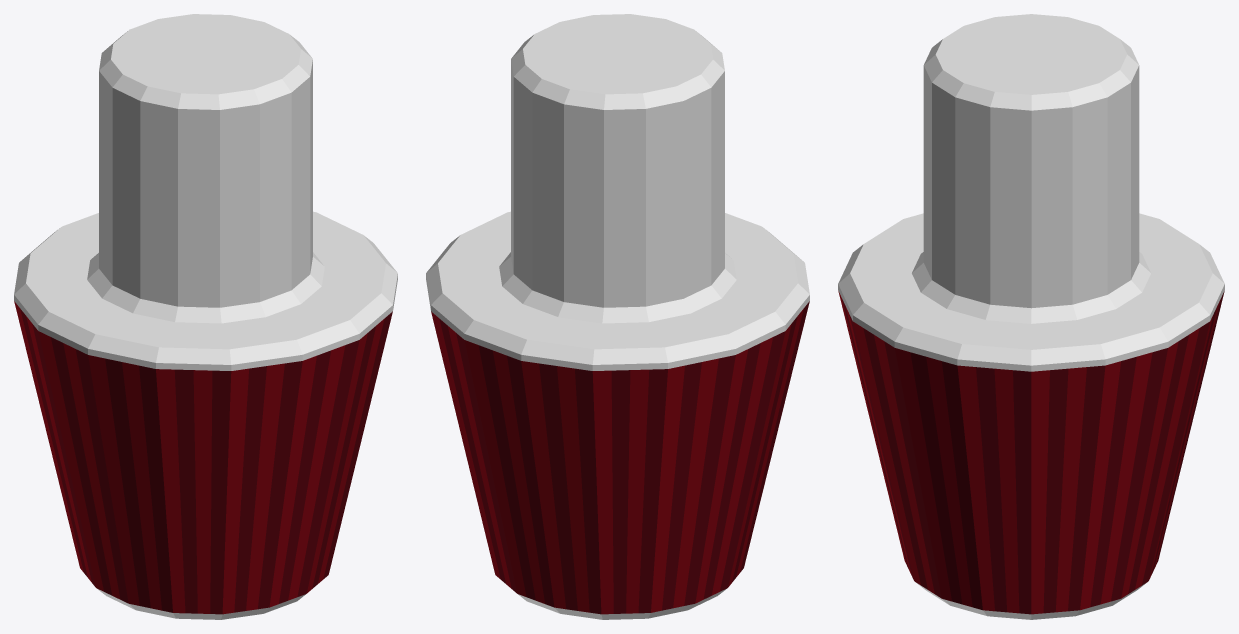
The model's file is Intake.fbx.
3 views of the same model, side by side, from view 1: azimuth 30°, elevation 25°; view 2: azimuth 150°, elevation 25°; view 3: azimuth 270°, elevation 25° (orthographic).
Visible parts, largest first — view 1: Kreis; view 2: Kreis; view 3: Kreis.
Part boxes in pixels (x1,y1,x2,y2): Kreis: (14,14,397,619); Kreis: (426,14,809,619); Kreis: (838,14,1224,619).
Bounding box in the file's own units: 305 × 450 × 305.
